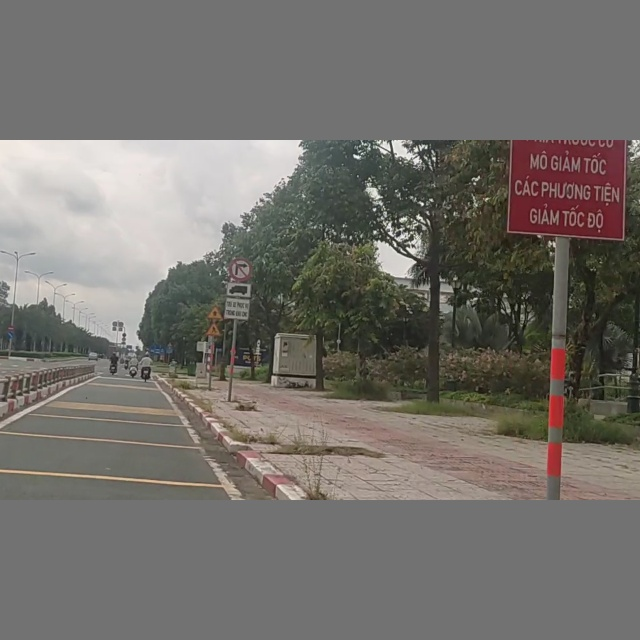P.123b: (227, 257, 252, 280)
S.505a*Xe tai: (225, 281, 251, 320)
W.207: (205, 306, 224, 320)
W.224: (205, 321, 222, 337)
